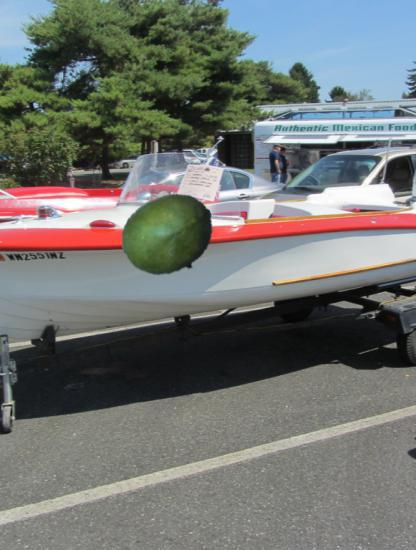Mango: (121, 188, 216, 283)
